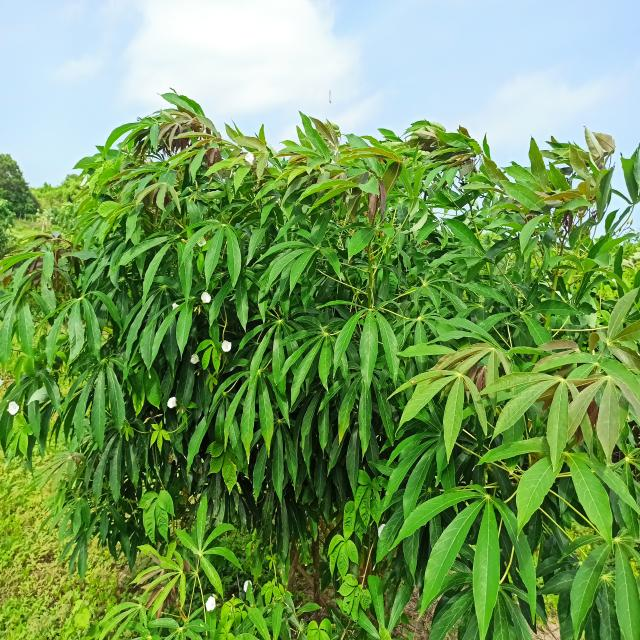Maleza: (2, 491, 72, 639), (133, 479, 181, 547), (325, 530, 365, 596), (207, 441, 244, 491), (353, 472, 388, 523), (341, 499, 369, 558)
